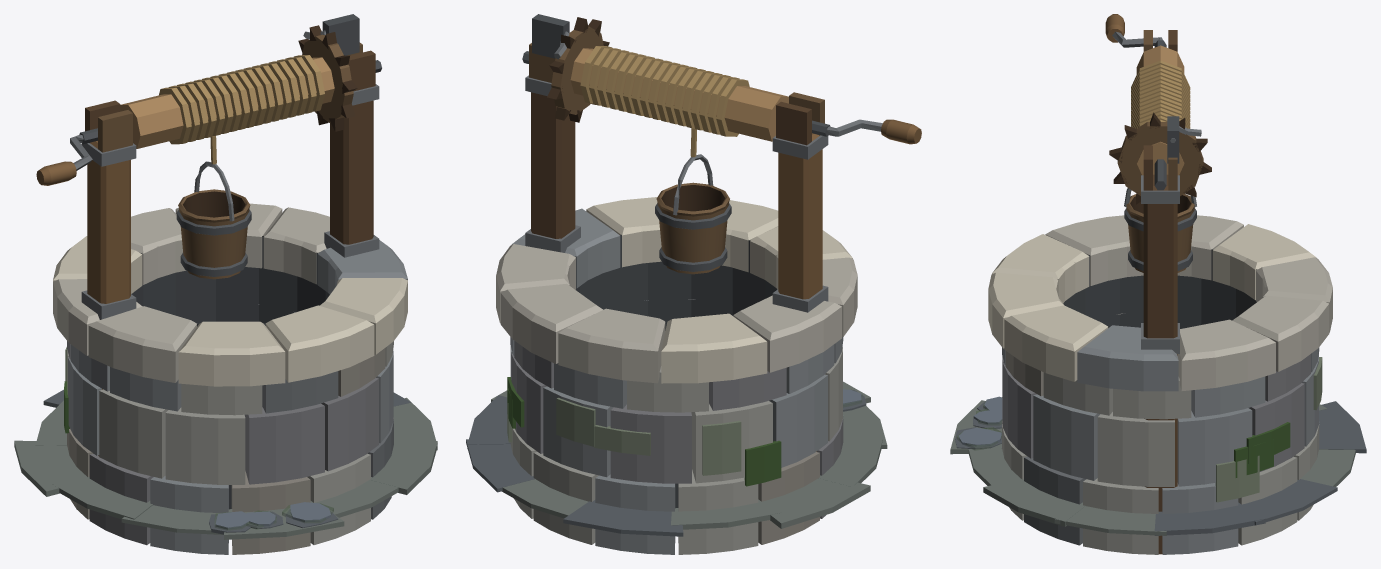
Rendered from SM_LPD_Struct_WellRound_01.fbx.
The picture shows the model from 3 angles, left to right: view 1: azimuth 30°, elevation 25°; view 2: azimuth 150°, elevation 25°; view 3: azimuth 270°, elevation 25°; orthographic projection. The views are drawn at different scales.
Visible parts, largest first — view 1: SM_LPD_Struct_WellRound_01; view 2: SM_LPD_Struct_WellRound_01; view 3: SM_LPD_Struct_WellRound_01.
Boxes of the visible parts, box(x1,y1,x2,y2) form: SM_LPD_Struct_WellRound_01: box(14, 14, 437, 554); SM_LPD_Struct_WellRound_01: box(466, 14, 921, 554); SM_LPD_Struct_WellRound_01: box(950, 14, 1366, 554).
Size of the model in its own units: 1.94 by 2.05 by 1.83.
